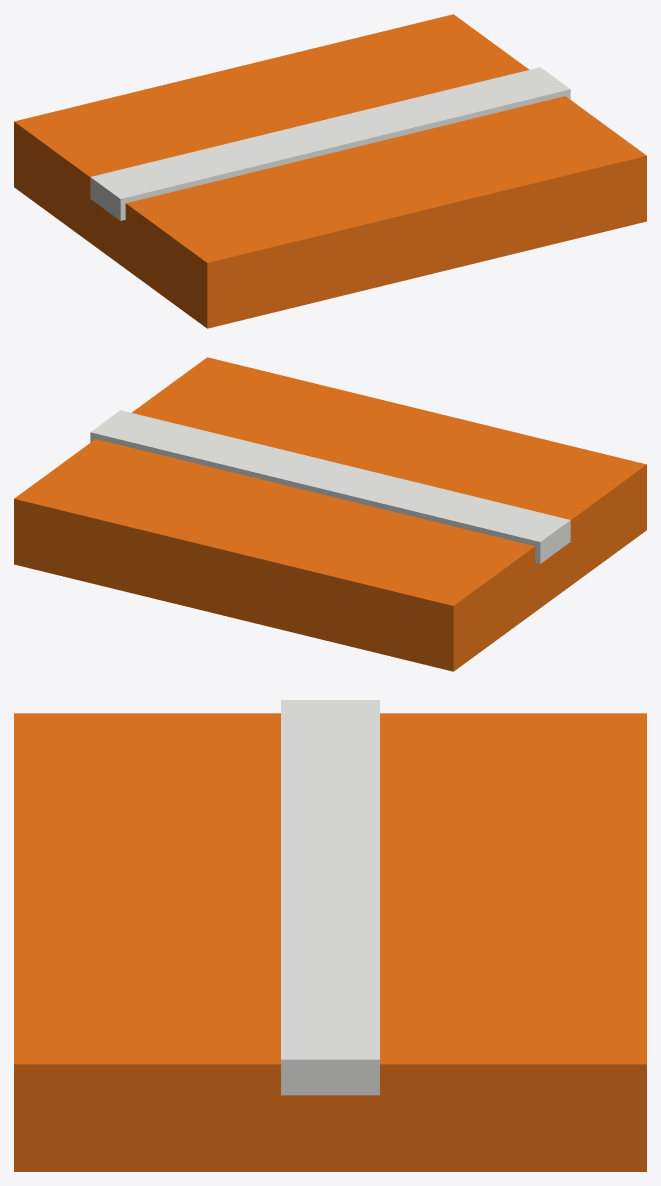
File: folded_prison_vest.glb
3 views of the same model, one above another, from view 1: azimuth 30°, elevation 25°; view 2: azimuth 150°, elevation 25°; view 3: azimuth 270°, elevation 25° (orthographic). The views are drawn at different scales.
Visible parts, largest first — view 1: vest_vest_orange, stripe_vest_white; view 2: vest_vest_orange, stripe_vest_white; view 3: vest_vest_orange, stripe_vest_white.
Part boxes in pixels (x1=…): vest_vest_orange: x1=14, y1=14, x2=646, y2=328; stripe_vest_white: x1=90, y1=67, x2=570, y2=220; vest_vest_orange: x1=14, y1=357, x2=646, y2=671; stripe_vest_white: x1=90, y1=410, x2=570, y2=563; vest_vest_orange: x1=14, y1=713, x2=646, y2=1171; stripe_vest_white: x1=281, y1=700, x2=379, y2=1095.
Size of the model in its own units: 0.43 by 0.065 by 0.32.
